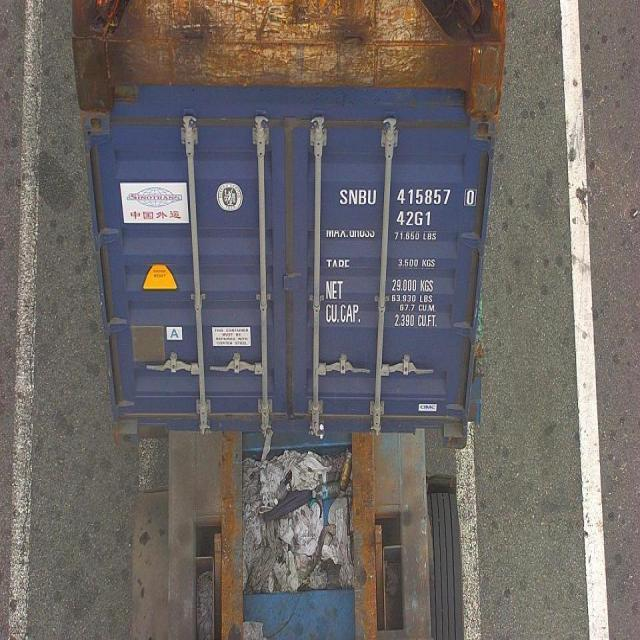ISO: (392, 208, 433, 227)
container_number: (338, 186, 479, 204)
